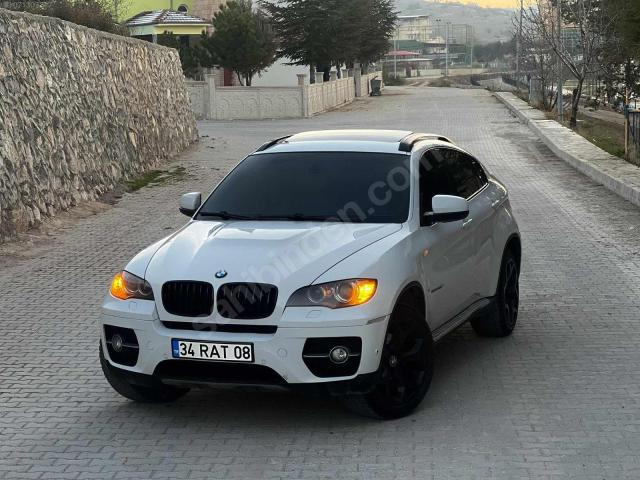plaka: (173, 340, 254, 362)
